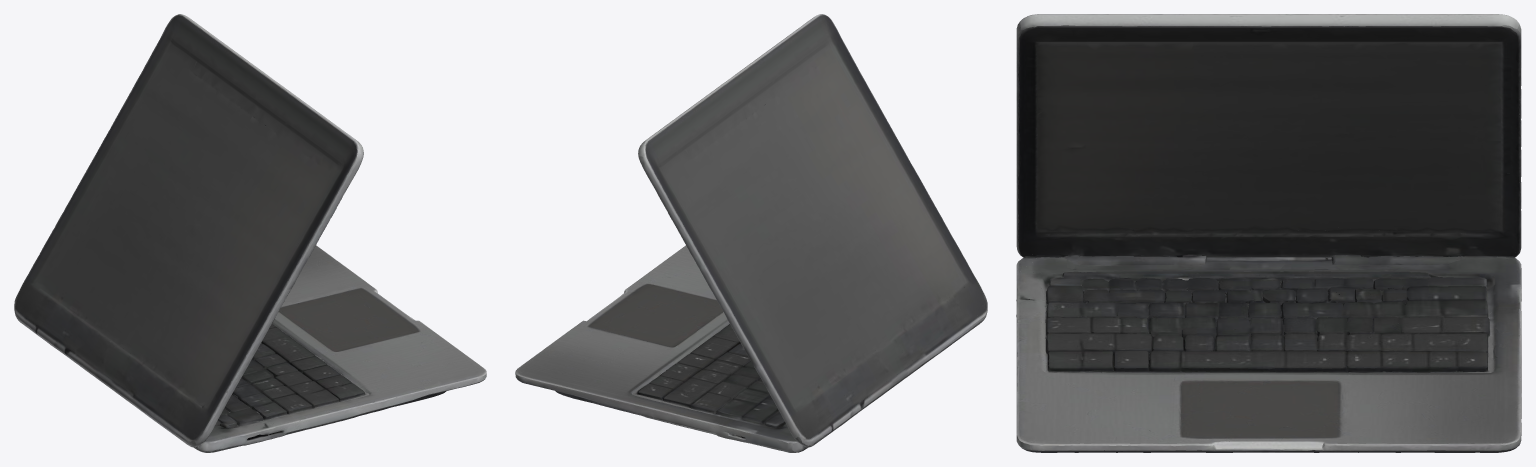
File: parts.glb
3 renders of one model, left to right at view 1: azimuth 30°, elevation 25°; view 2: azimuth 150°, elevation 25°; view 3: azimuth 270°, elevation 25°, orthographic. The views are drawn at different scales.
Size of the model in its own units: 0.31 by 0.2764 by 0.3426.
5 materials, 5 textured.
